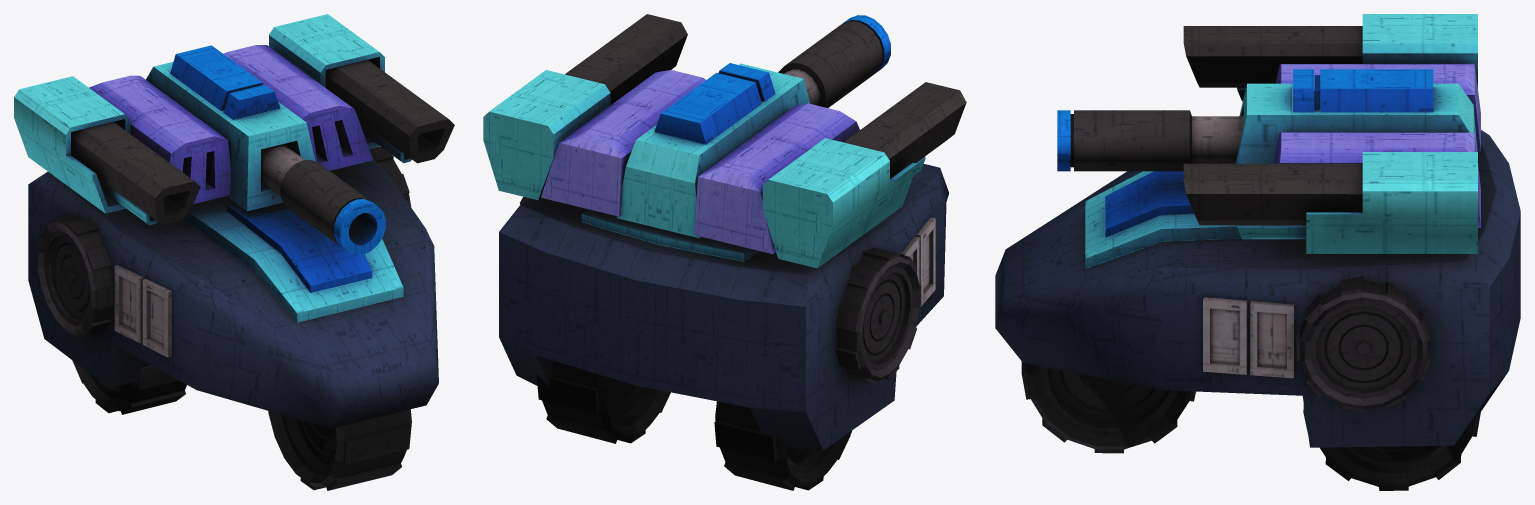
Rendered from PlayerA6.obj.
The picture shows the model from 3 angles, left to right: view 1: azimuth 30°, elevation 25°; view 2: azimuth 150°, elevation 25°; view 3: azimuth 270°, elevation 25°; orthographic projection. The views are drawn at different scales.
Visible parts, largest first — view 1: Object001, Object002, Object004, Object003; view 2: Object001, Object002, Object003; view 3: Object001, Object002, Object004, Object003.
Part boxes in pixels (bbox=[...]): Object001: bbox=[28, 45, 438, 428]; Object002: bbox=[14, 14, 454, 225]; Object004: bbox=[268, 409, 411, 490]; Object003: bbox=[72, 360, 186, 414]; Object001: bbox=[499, 15, 948, 450]; Object002: bbox=[483, 14, 966, 268]; Object003: bbox=[536, 361, 852, 490]; Object001: bbox=[995, 64, 1520, 447]; Object002: bbox=[1183, 14, 1477, 253]; Object004: bbox=[1021, 361, 1195, 453]; Object003: bbox=[1303, 404, 1481, 490].
Bounding box in the file's own units: 93.13 × 89.08 × 119.
1 material, 1 textured.
